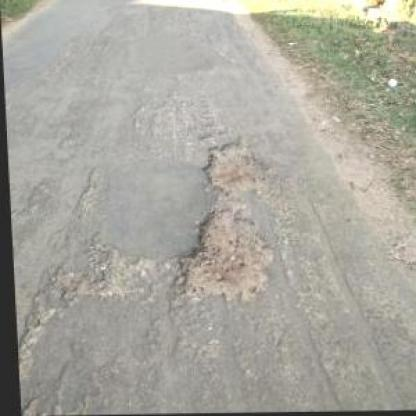pothole: (171, 207, 274, 304), (44, 245, 144, 301), (200, 138, 269, 192)
